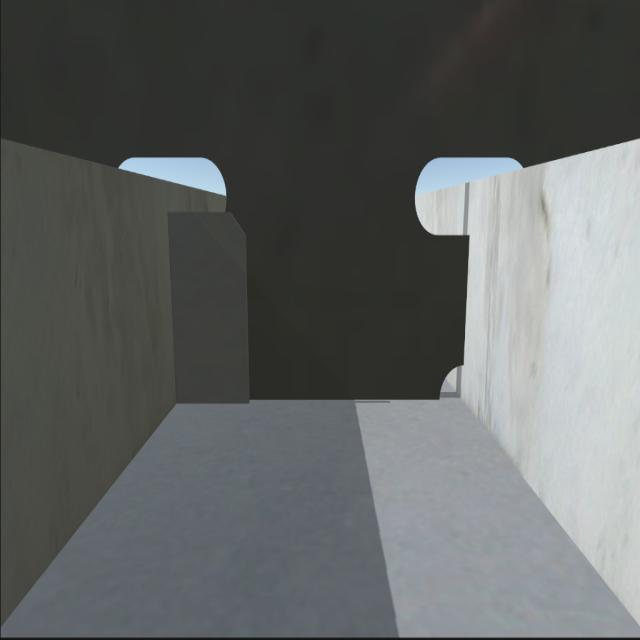fillet_hole: (438, 362, 463, 399)
fillet_yong_jeop_jang: (180, 394, 438, 404)
longi_yong_jeop_jang: (164, 216, 184, 396), (462, 240, 473, 366)
plate_CP03: (172, 213, 248, 397)
